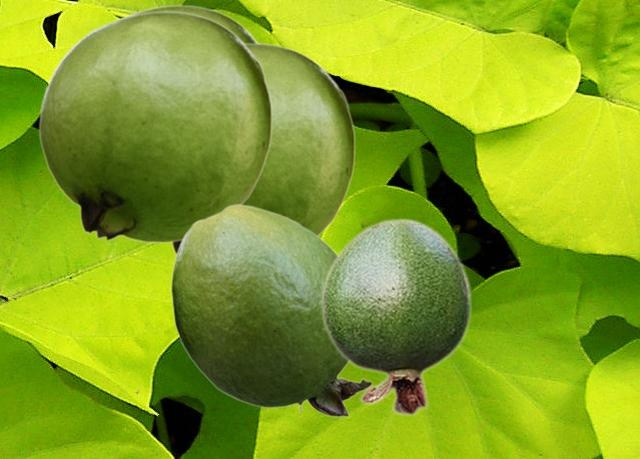guava: (38, 10, 272, 242), (170, 203, 372, 416), (169, 42, 355, 254), (320, 217, 472, 416), (111, 4, 258, 41)
